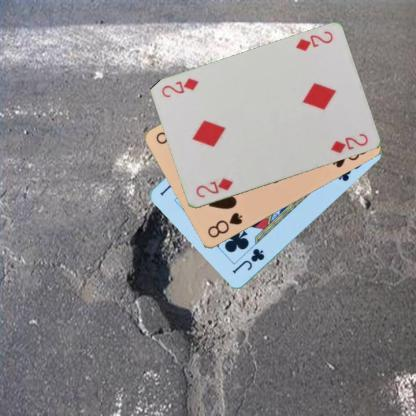2d: (193, 176, 234, 199), (293, 29, 334, 52)
8s: (204, 210, 244, 240)
Jc: (230, 246, 266, 276)
